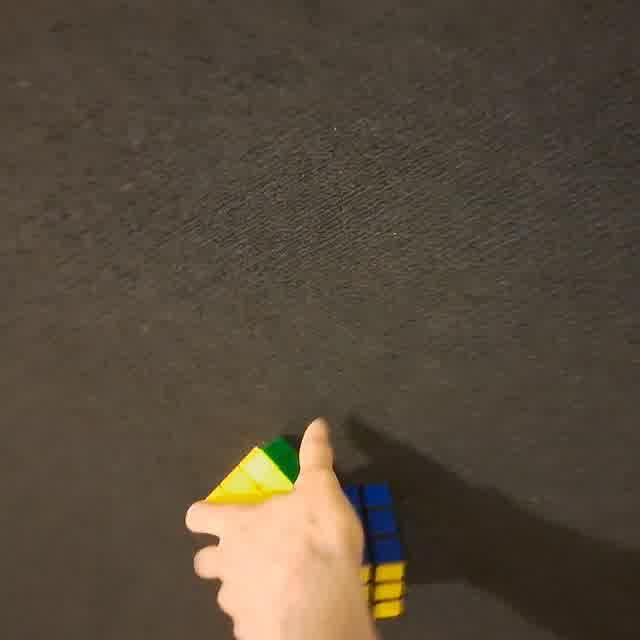rubix_cube: (287, 478, 413, 627), (190, 432, 321, 572)
